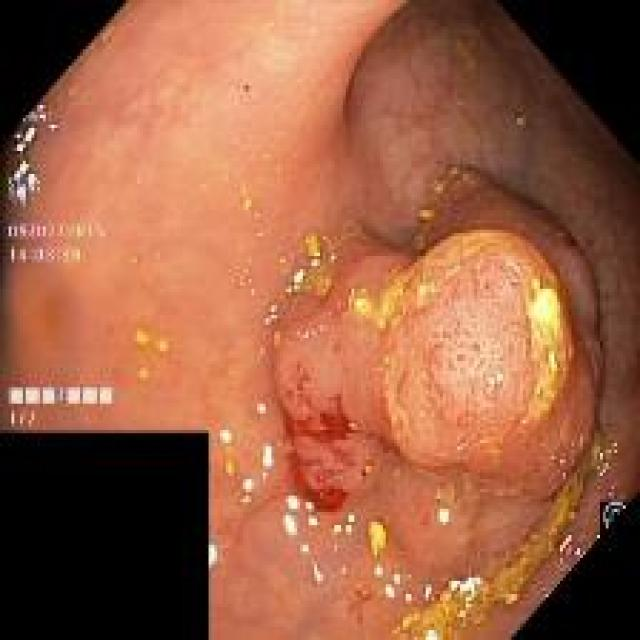Polyps: (275, 171, 601, 585)
